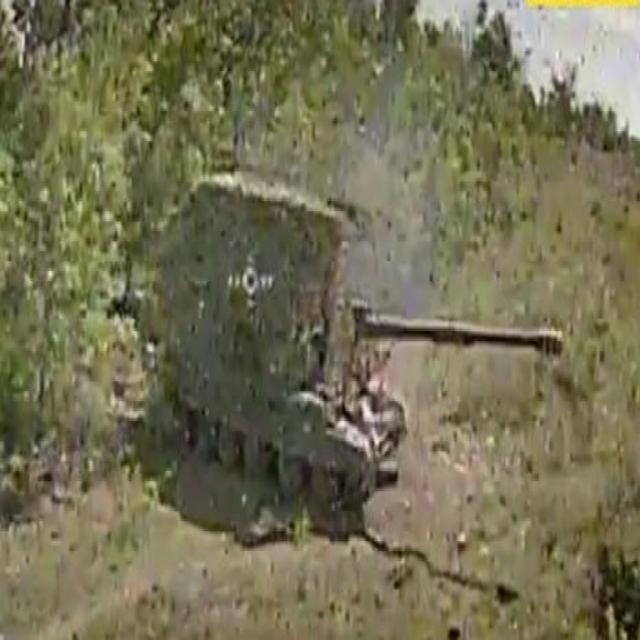ART: (161, 167, 563, 508)
